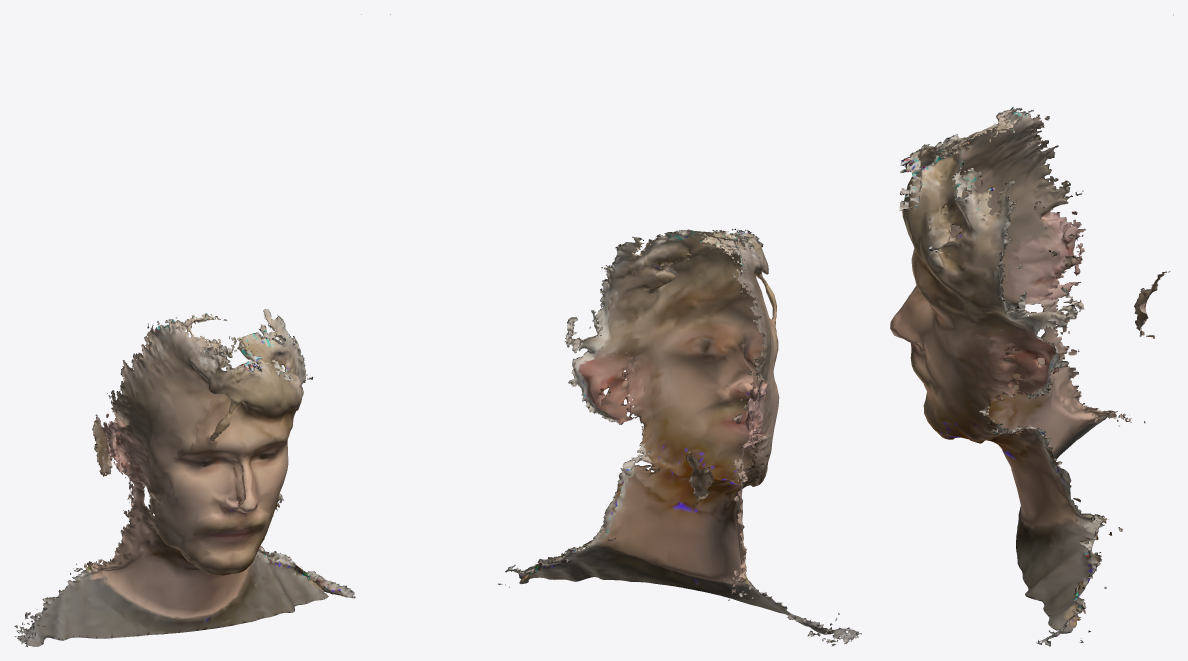
The picture shows the model from 3 angles, left to right: view 1: azimuth 30°, elevation 25°; view 2: azimuth 150°, elevation 25°; view 3: azimuth 270°, elevation 25°; orthographic projection. The views are drawn at different scales.
Bounding box in the file's own units: 0.4158 × 0.5502 × 0.212.
